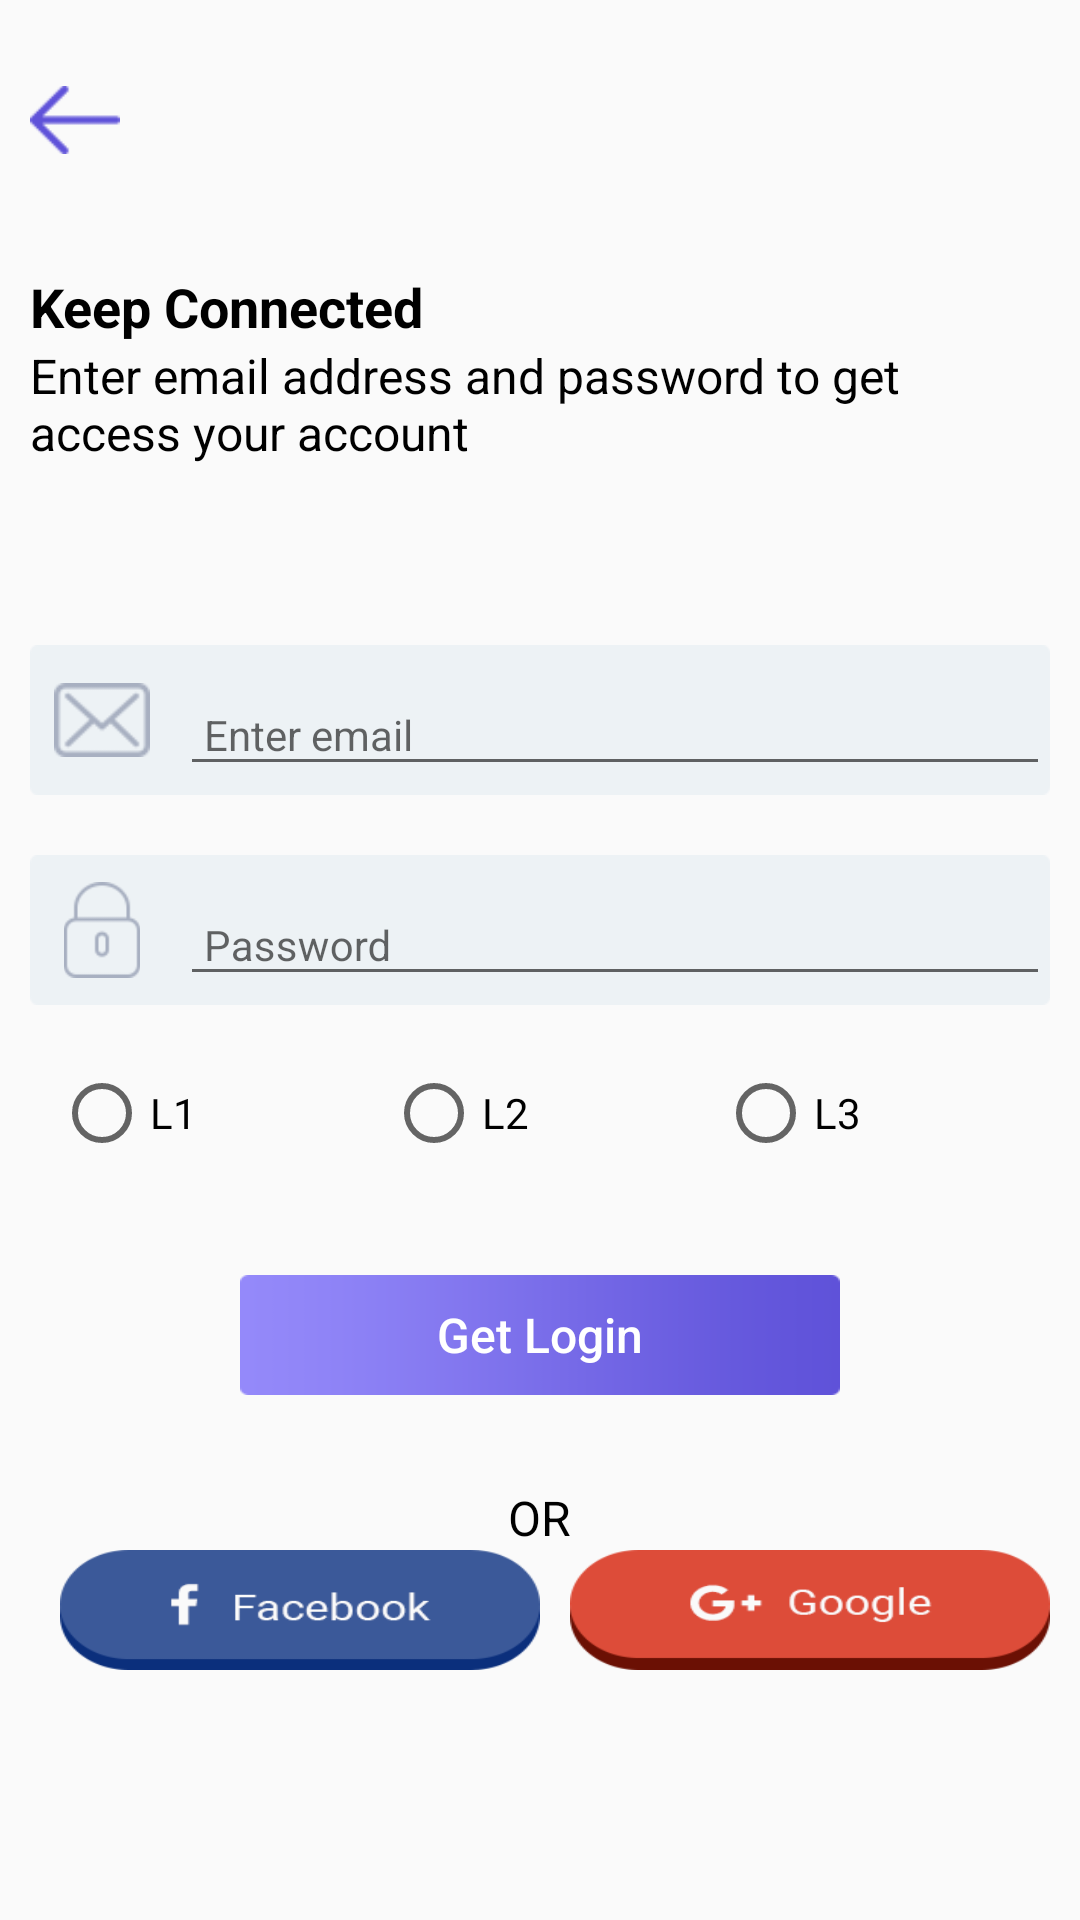

Named icons in this screenshot (1080x1920) and their bounding boxes, (x1, y1, x2, y2):
arrow left: (30, 86, 120, 154)
